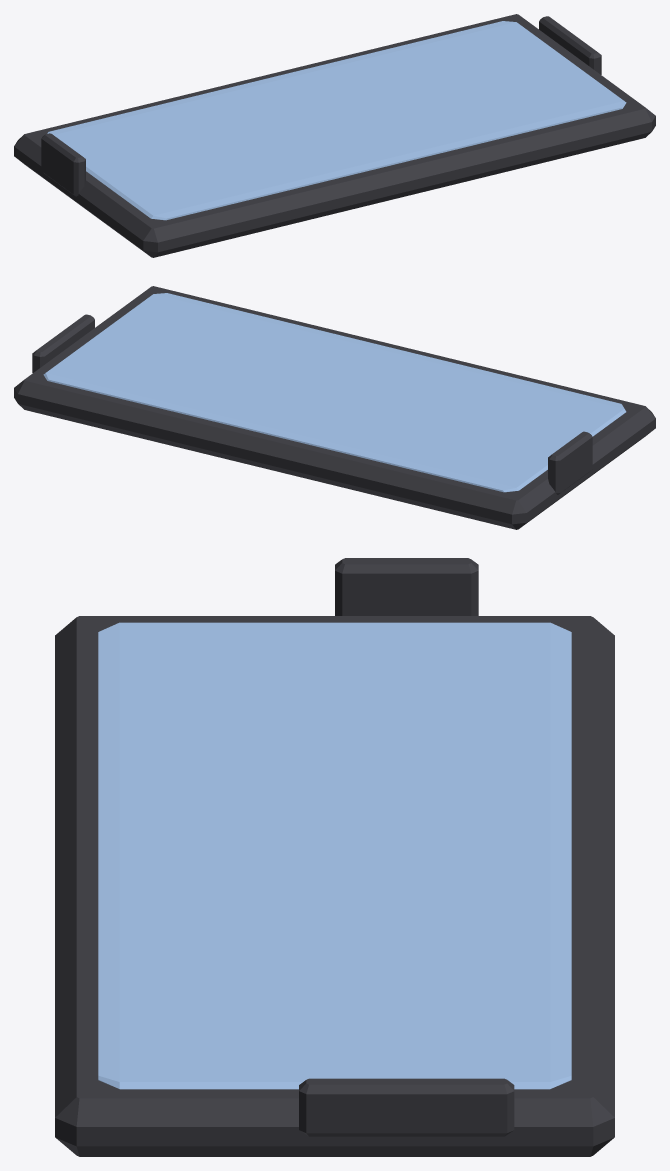
File: computers-and-desk-gadgets-smartphone-67-a83244e4__38848.glb
3 renders of one model, top to bottom at view 1: azimuth 30°, elevation 25°; view 2: azimuth 150°, elevation 25°; view 3: azimuth 270°, elevation 25°, orthographic. The views are drawn at different scales.
Parts seen in each view (by area): view 1: smartphone-67; view 2: smartphone-67; view 3: smartphone-67.
Boxes of the visible parts, <box> form: smartphone-67: <box>14,14,655,257</box>; smartphone-67: <box>14,286,655,529</box>; smartphone-67: <box>55,558,614,1156</box>.
Bounding box in the file's own units: 0.167 × 0.0223 × 0.078.
